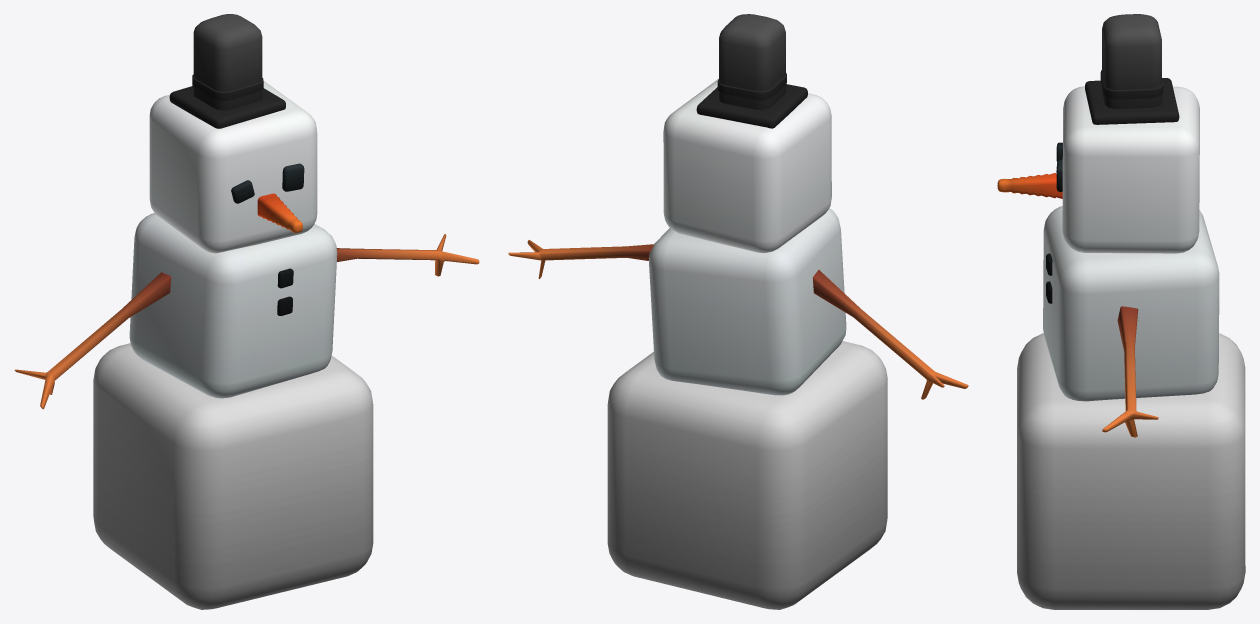
Rendered from Snowman-transformed.glb.
The picture shows the model from 3 angles, left to right: view 1: azimuth 30°, elevation 25°; view 2: azimuth 150°, elevation 25°; view 3: azimuth 270°, elevation 25°; orthographic projection.
Visible parts, largest first — view 1: Snowman; view 2: Snowman; view 3: Snowman.
Part boxes in pixels (x1,y1,x2,y2): Snowman: (14, 14, 479, 609); Snowman: (508, 14, 968, 609); Snowman: (997, 14, 1245, 609).
Size of the model in its own units: 1.49 by 1.75 by 0.7153.
1 material, 1 textured.
